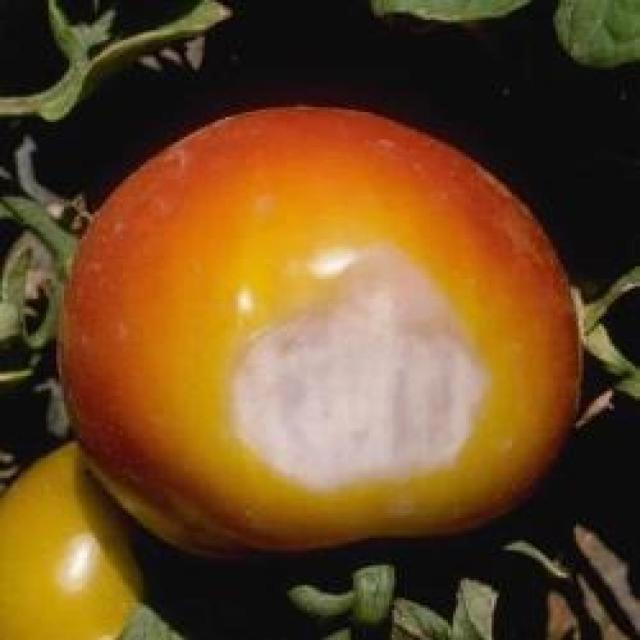Sunscald Fruit: (129, 157, 322, 336)
